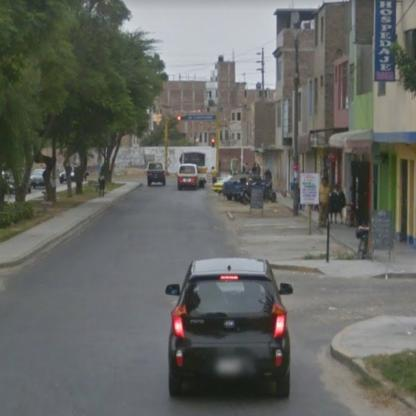Peaton: (98, 172, 108, 199)
Pista: (2, 181, 315, 331)
Vehiculo: (167, 259, 295, 400), (178, 164, 200, 191), (146, 163, 167, 187)
